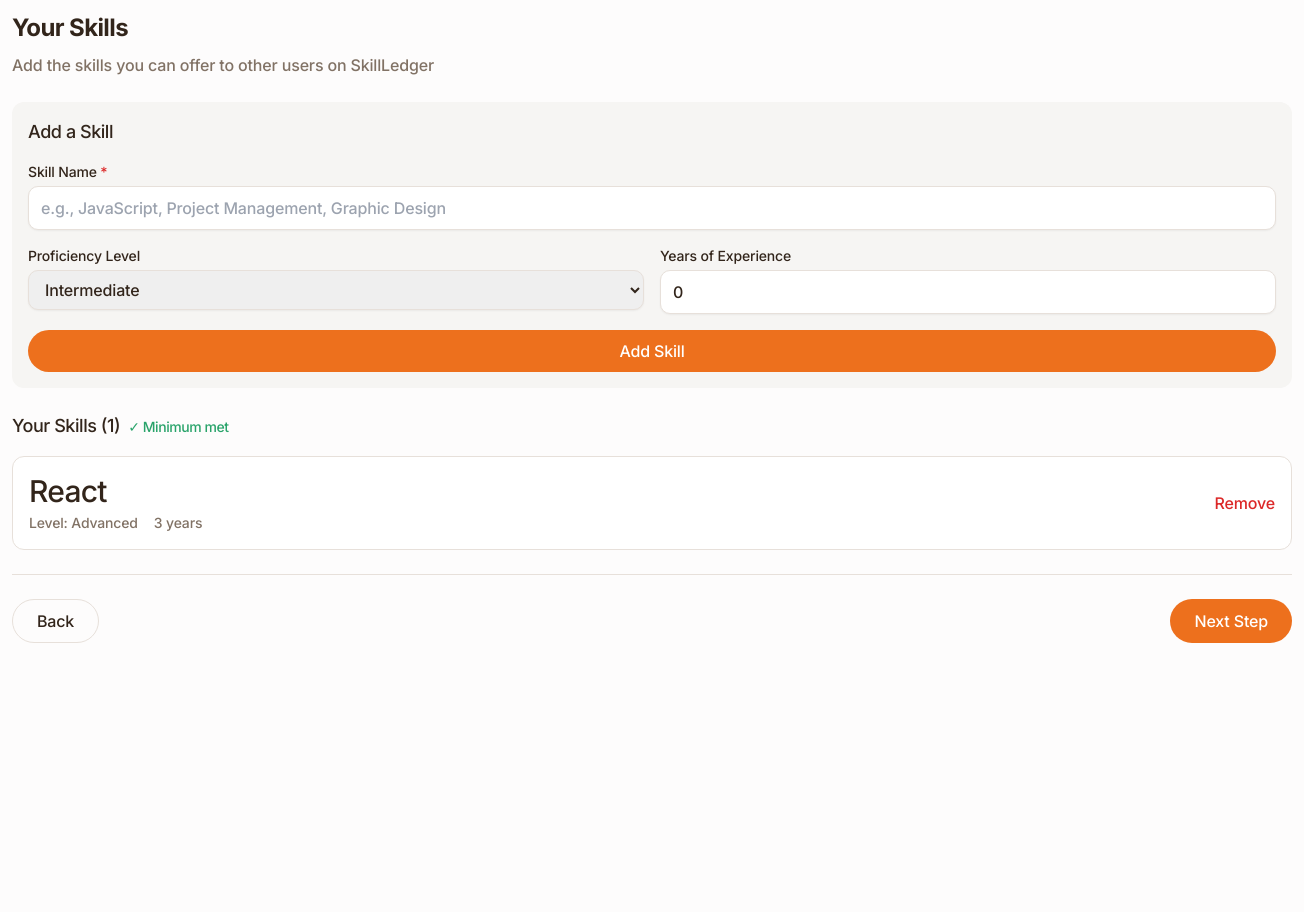
Test: Step2SkillSelection › removes a skill from the list
Expected: the heading "React" is shown, x1=29 y1=473 x2=107 y2=509
Click the button "Remove". click: click(1245, 503)
box: x1=1214 y1=490 x2=1275 y2=516
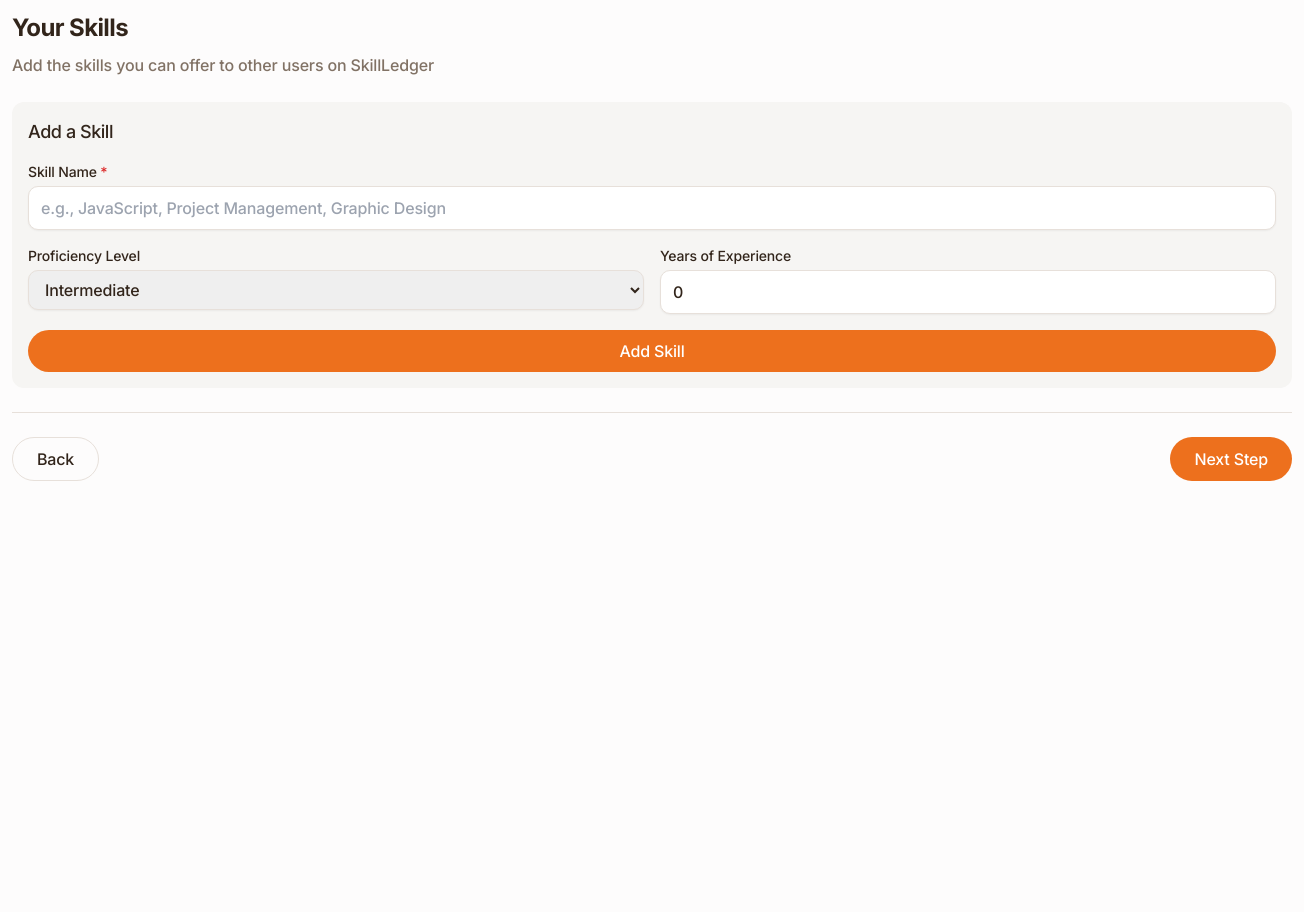
Expected: the heading "React" is gone
